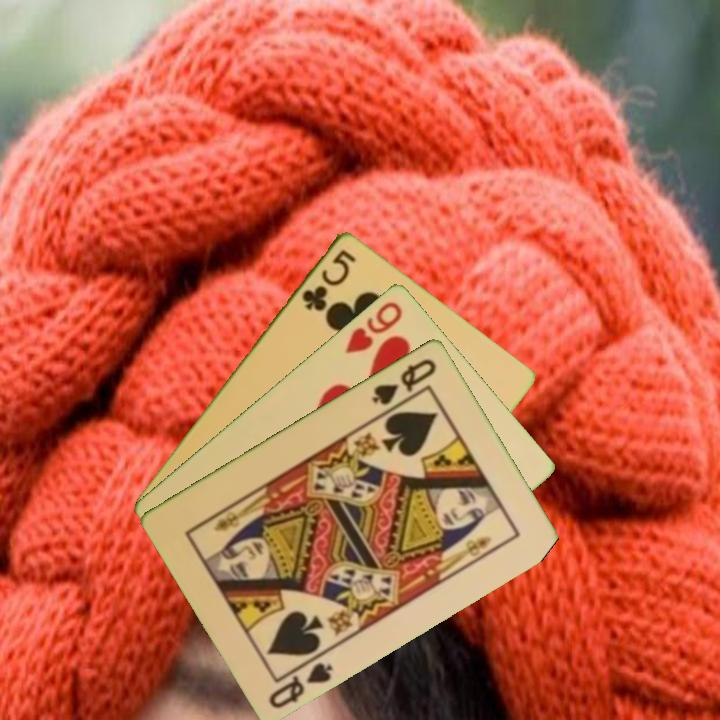5c: (298, 245, 359, 314)
9h: (341, 297, 405, 356)
Qs: (368, 354, 440, 408), (265, 658, 336, 711)
